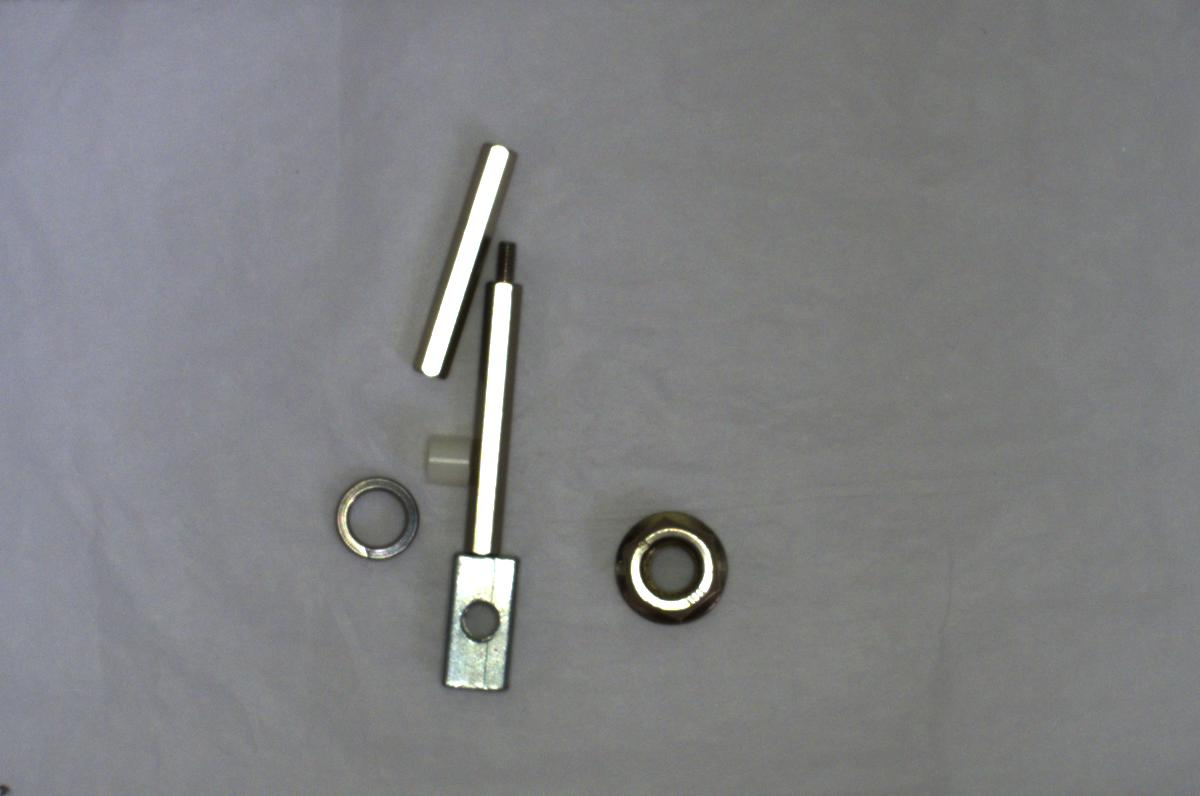Double hexagonal column: (406, 132, 522, 385)
Flange nut: (604, 502, 737, 633)
Hexagonal steel column: (464, 241, 530, 568)
Plastic cushion pillar: (412, 425, 478, 493)
Rectangular nut: (432, 547, 521, 702)
Spring washer: (333, 468, 426, 568)
